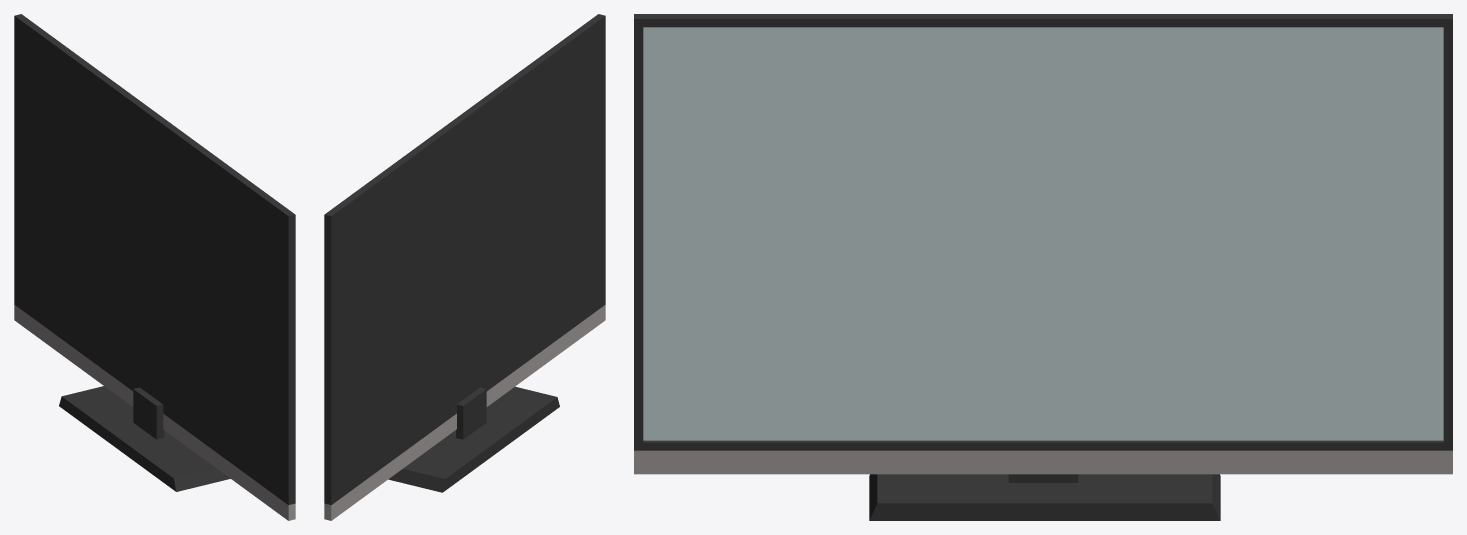
3 views of the same model, side by side, from view 1: azimuth 30°, elevation 25°; view 2: azimuth 150°, elevation 25°; view 3: azimuth 270°, elevation 25° (orthographic). The views are drawn at different scales.
Parts seen in each view (by area): view 1: TV; view 2: TV; view 3: TV.
Part boxes in pixels (x1,y1,x2,y2): TV: (14, 14, 295, 520); TV: (324, 14, 605, 520); TV: (634, 14, 1452, 520).
Bounding box in the file's own units: 54.62 × 273 × 417.
